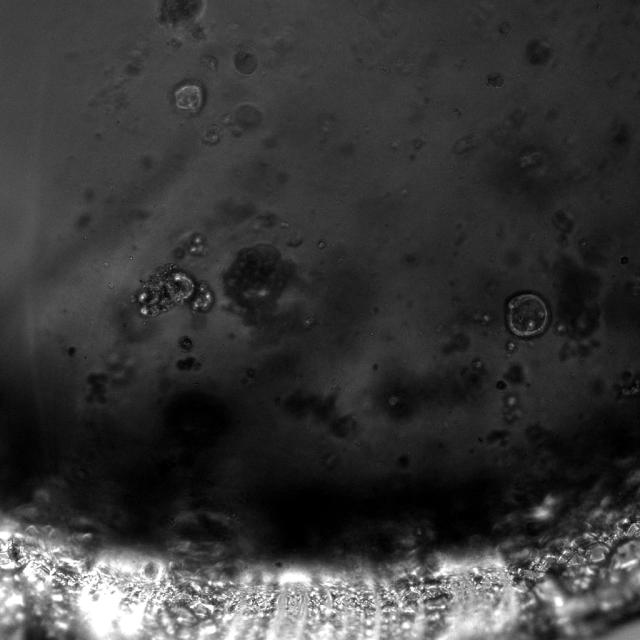organoid: (223, 244, 316, 341), (551, 255, 601, 361), (131, 263, 214, 316), (504, 291, 551, 353), (159, 0, 202, 26), (174, 84, 203, 113), (234, 103, 262, 129), (234, 48, 257, 75), (176, 356, 199, 370), (487, 73, 504, 88), (178, 336, 192, 351), (495, 379, 508, 390)
